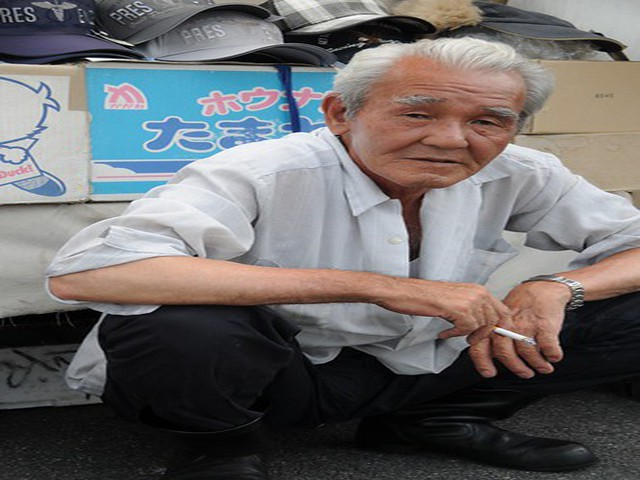Person: (80, 26, 637, 471)
